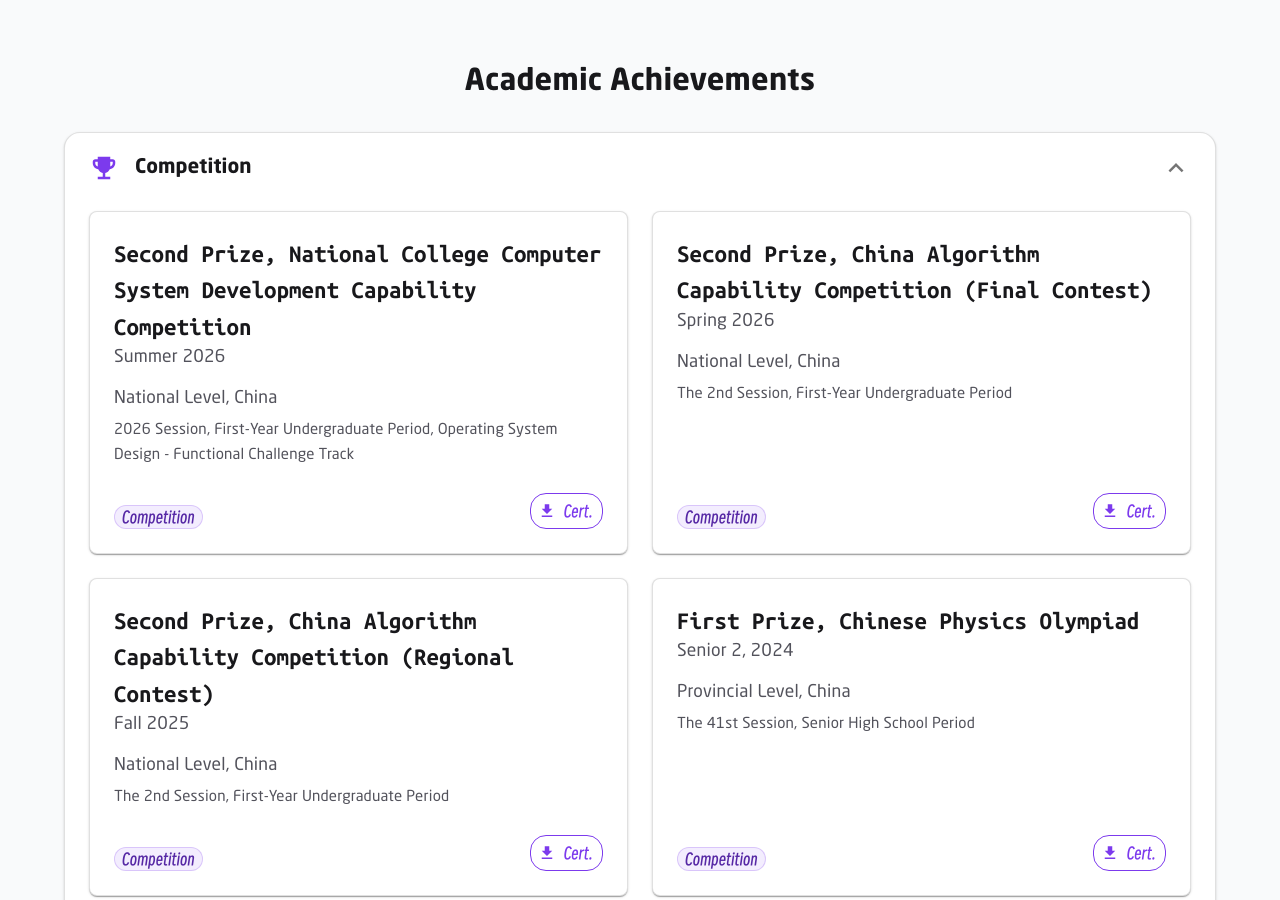
it: keeps categories expandable and every certificate destination available
Step 1. Click the button "Competition" → x=193, y=168, box [65,133,1215,203]
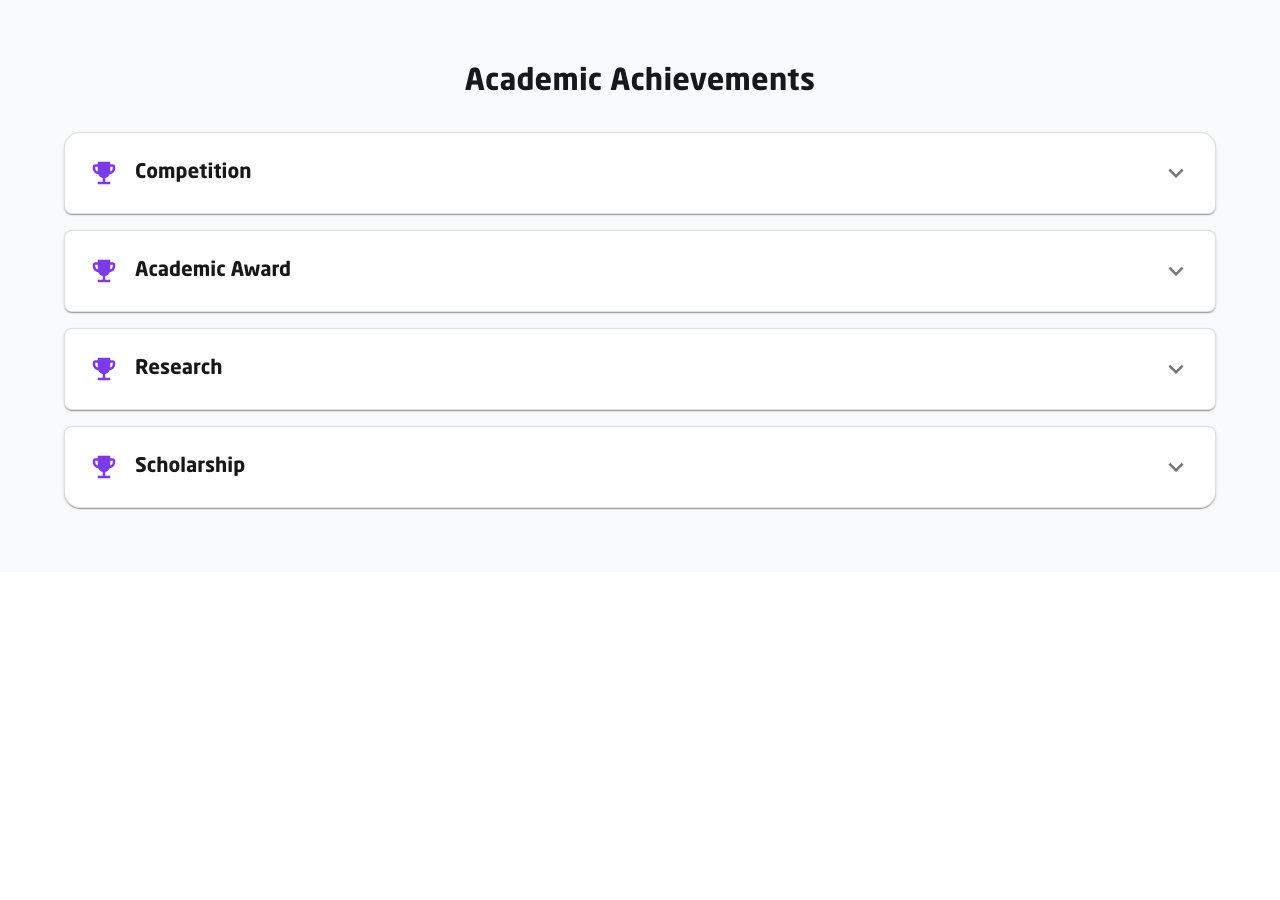
Now the button "Competition" is collapsed
Step 2. Click the button "Competition" → x=193, y=173, box [65,133,1215,213]
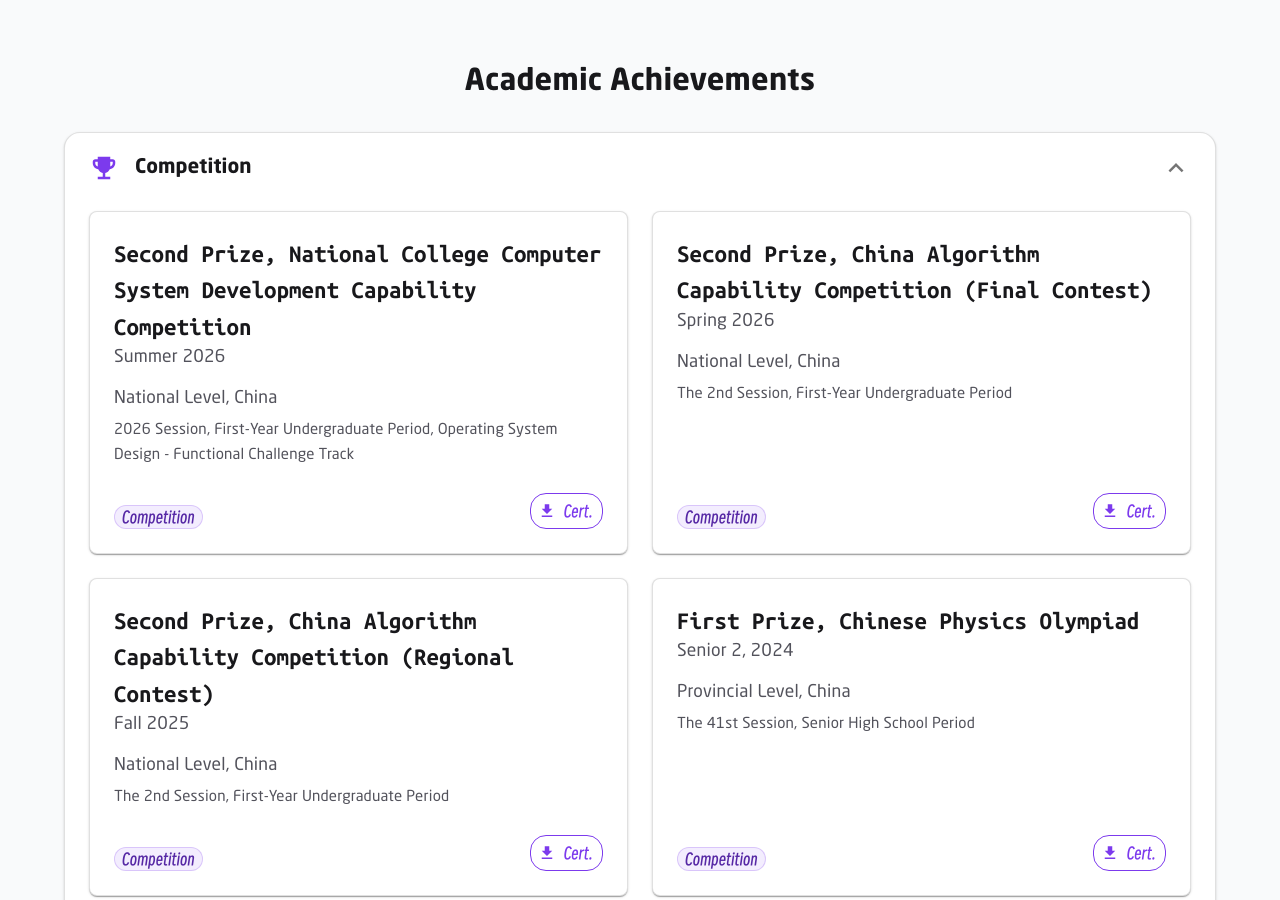
Now the button "Competition" is expanded, box [65,133,1215,203]
